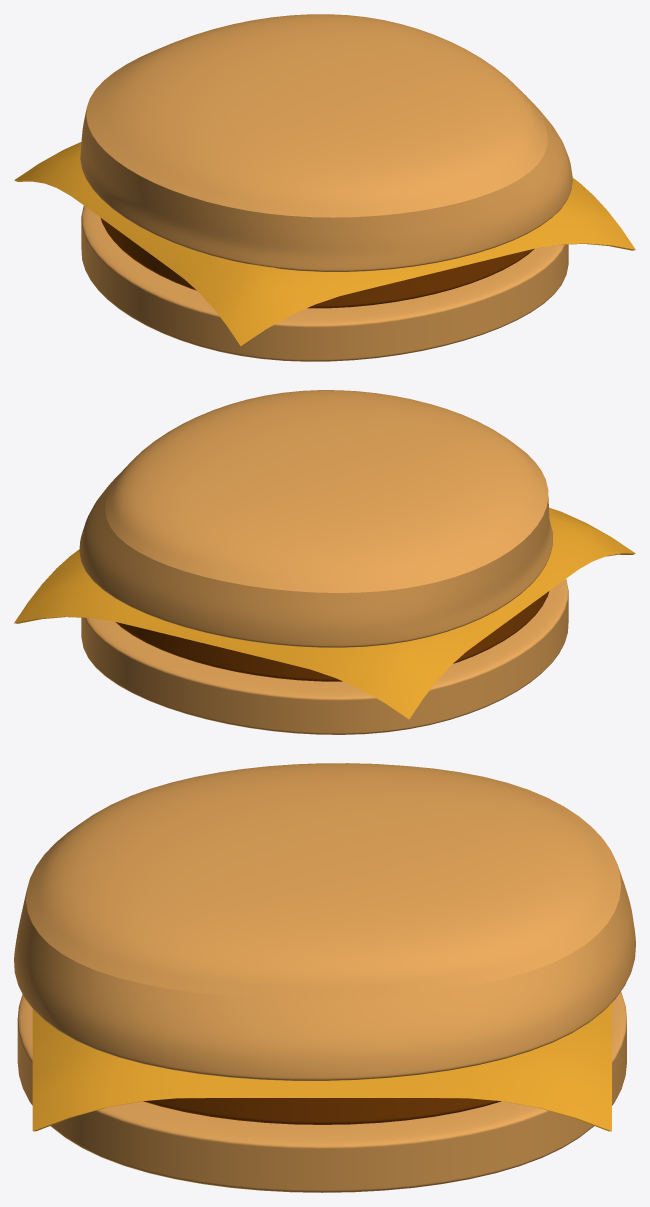
File: hamburger.glb
3 views of the same model, one above another, from view 1: azimuth 30°, elevation 25°; view 2: azimuth 150°, elevation 25°; view 3: azimuth 270°, elevation 25° (orthographic). The views are drawn at different scales.
Visible parts, largest first — view 1: Cube.002, Cube, Plane, Cube.001; view 2: Cube.002, Cube, Plane, Cube.001; view 3: Cube.002, Cube, Plane, Cube.001.
Part boxes in pixels (left/top/right/bottom): Cube.002: left=80, top=14, right=572, bottom=271; Cube: left=81, top=206, right=568, bottom=361; Plane: left=14, top=142, right=635, bottom=345; Cube.001: left=100, top=218, right=534, bottom=308; Cube.002: left=79, top=390, right=552, bottom=647; Cube: left=81, top=579, right=568, bottom=734; Plane: left=14, top=507, right=635, bottom=719; Cube.001: left=115, top=591, right=549, bottom=681; Cube.002: left=14, top=763, right=635, bottom=1080; Cube: left=17, top=992, right=626, bottom=1192; Plane: left=32, top=1003, right=611, bottom=1131; Cube.001: left=143, top=1098, right=500, bottom=1124.
Size of the model in its own units: 9 by 3.85 by 9.18.
